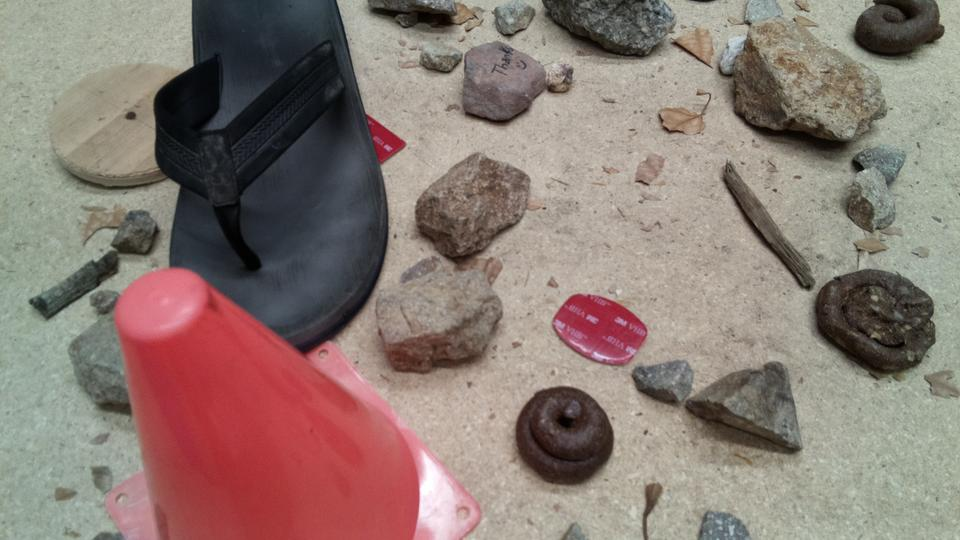poop: (814, 266, 941, 375), (513, 385, 614, 487), (854, 1, 947, 57)
